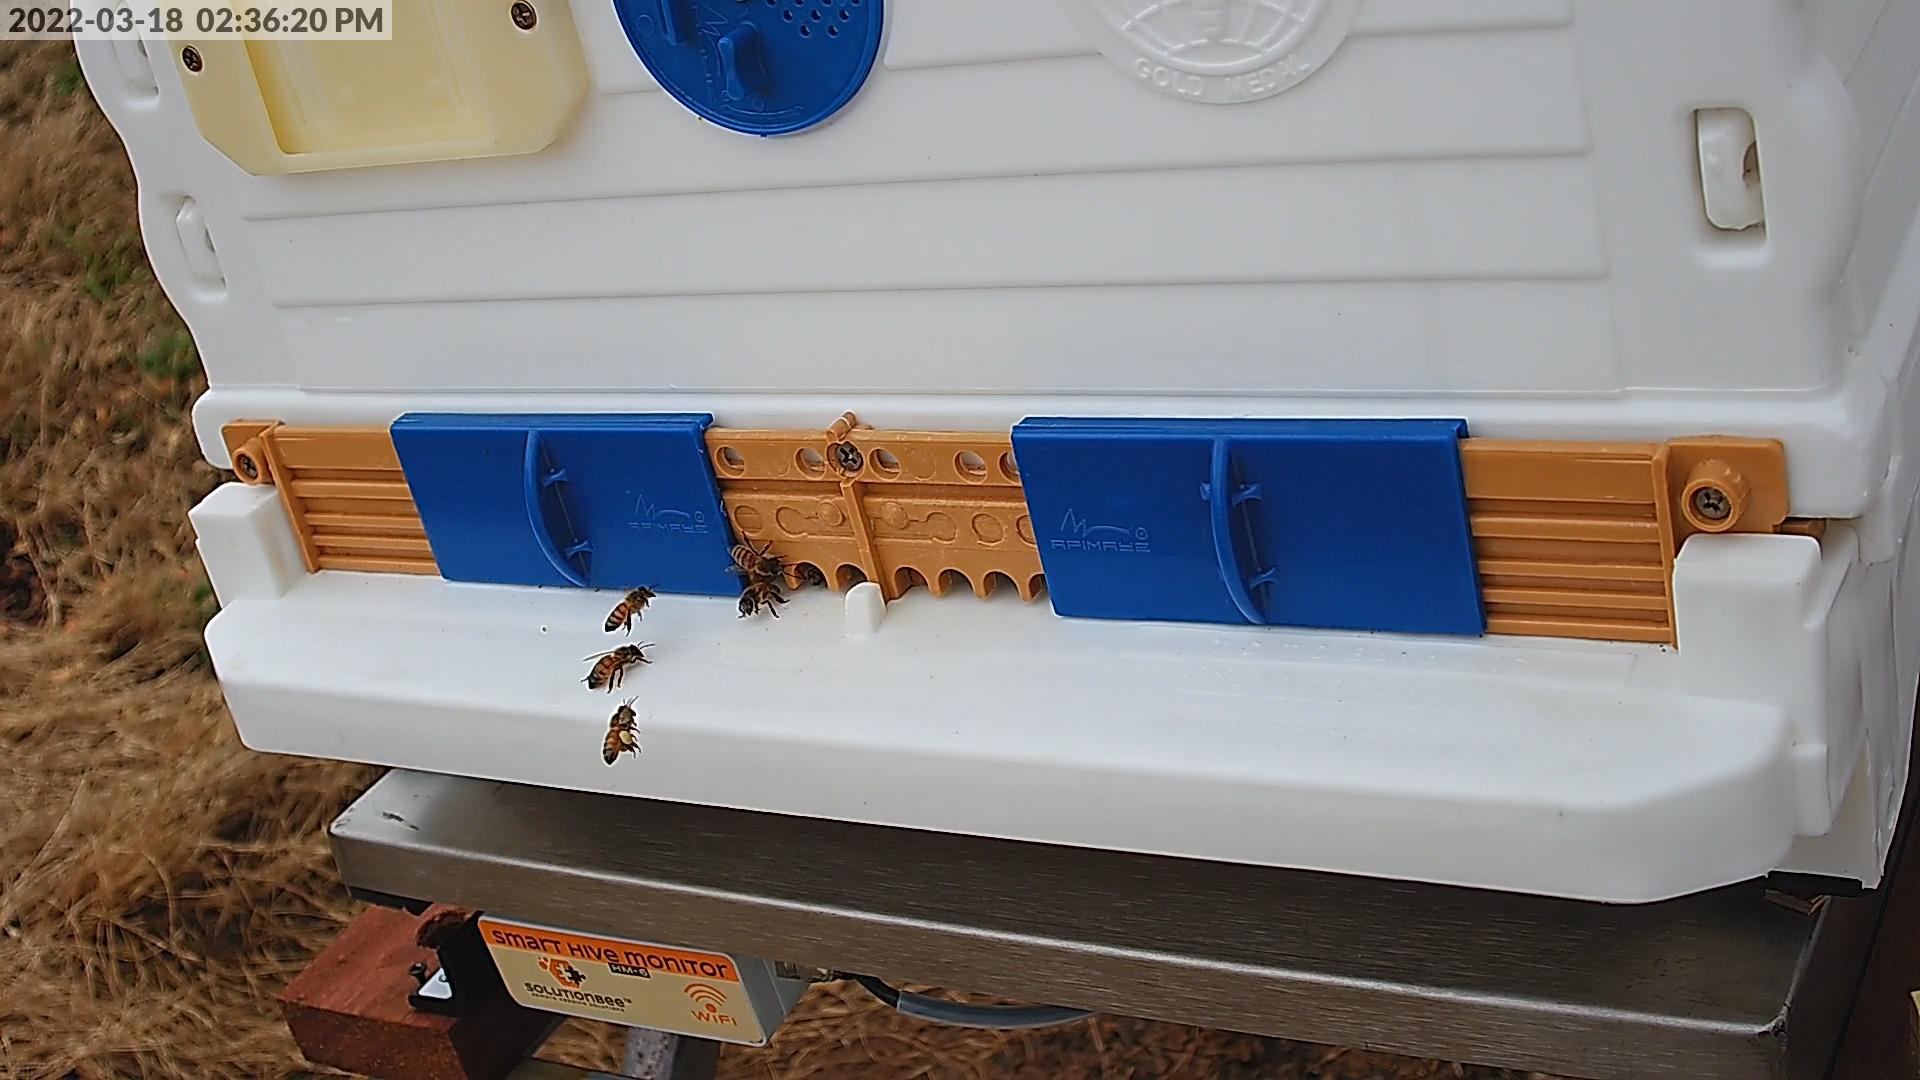bee: (587, 644, 641, 690), (604, 583, 650, 633), (728, 546, 785, 574), (738, 582, 782, 613), (795, 555, 824, 584)
pollenbee: (603, 704, 637, 764)
